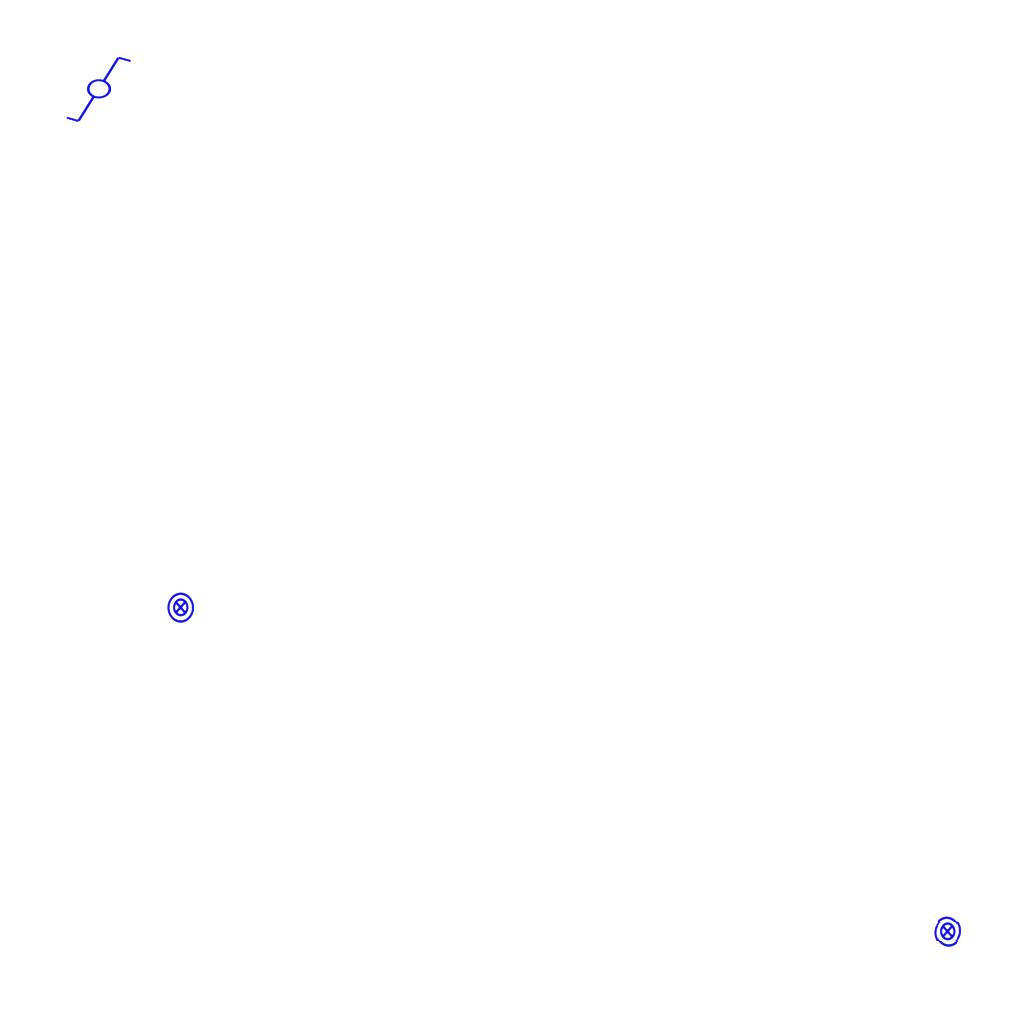Taster_beleuchtet: (930, 914, 965, 949), (164, 591, 197, 624)
Wechselschalter: (64, 54, 142, 126)
